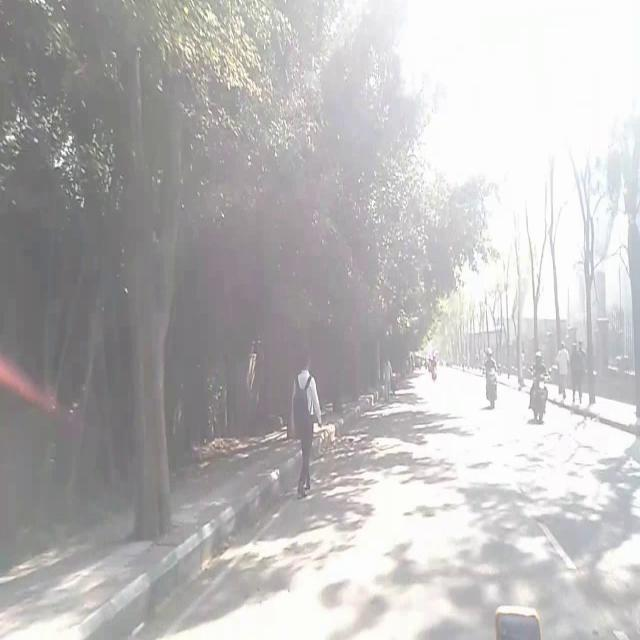motorcycle: (531, 374, 551, 424), (488, 368, 498, 413)
person: (288, 348, 326, 498), (556, 337, 569, 405), (530, 345, 551, 375), (482, 346, 497, 370), (118, 412, 121, 414)
road: (275, 378, 640, 511), (147, 579, 640, 635), (211, 512, 640, 575)
sidewalk: (0, 578, 148, 640), (84, 518, 212, 580), (184, 454, 289, 517), (555, 384, 640, 424)
